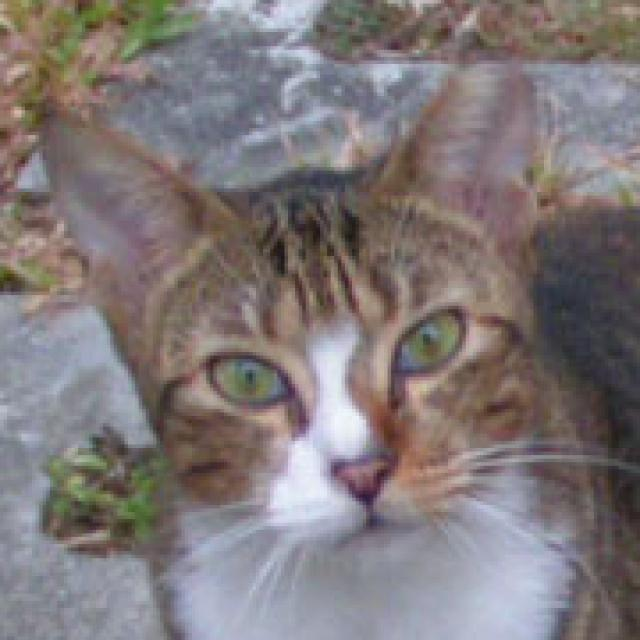Bengal: (14, 50, 640, 640)
